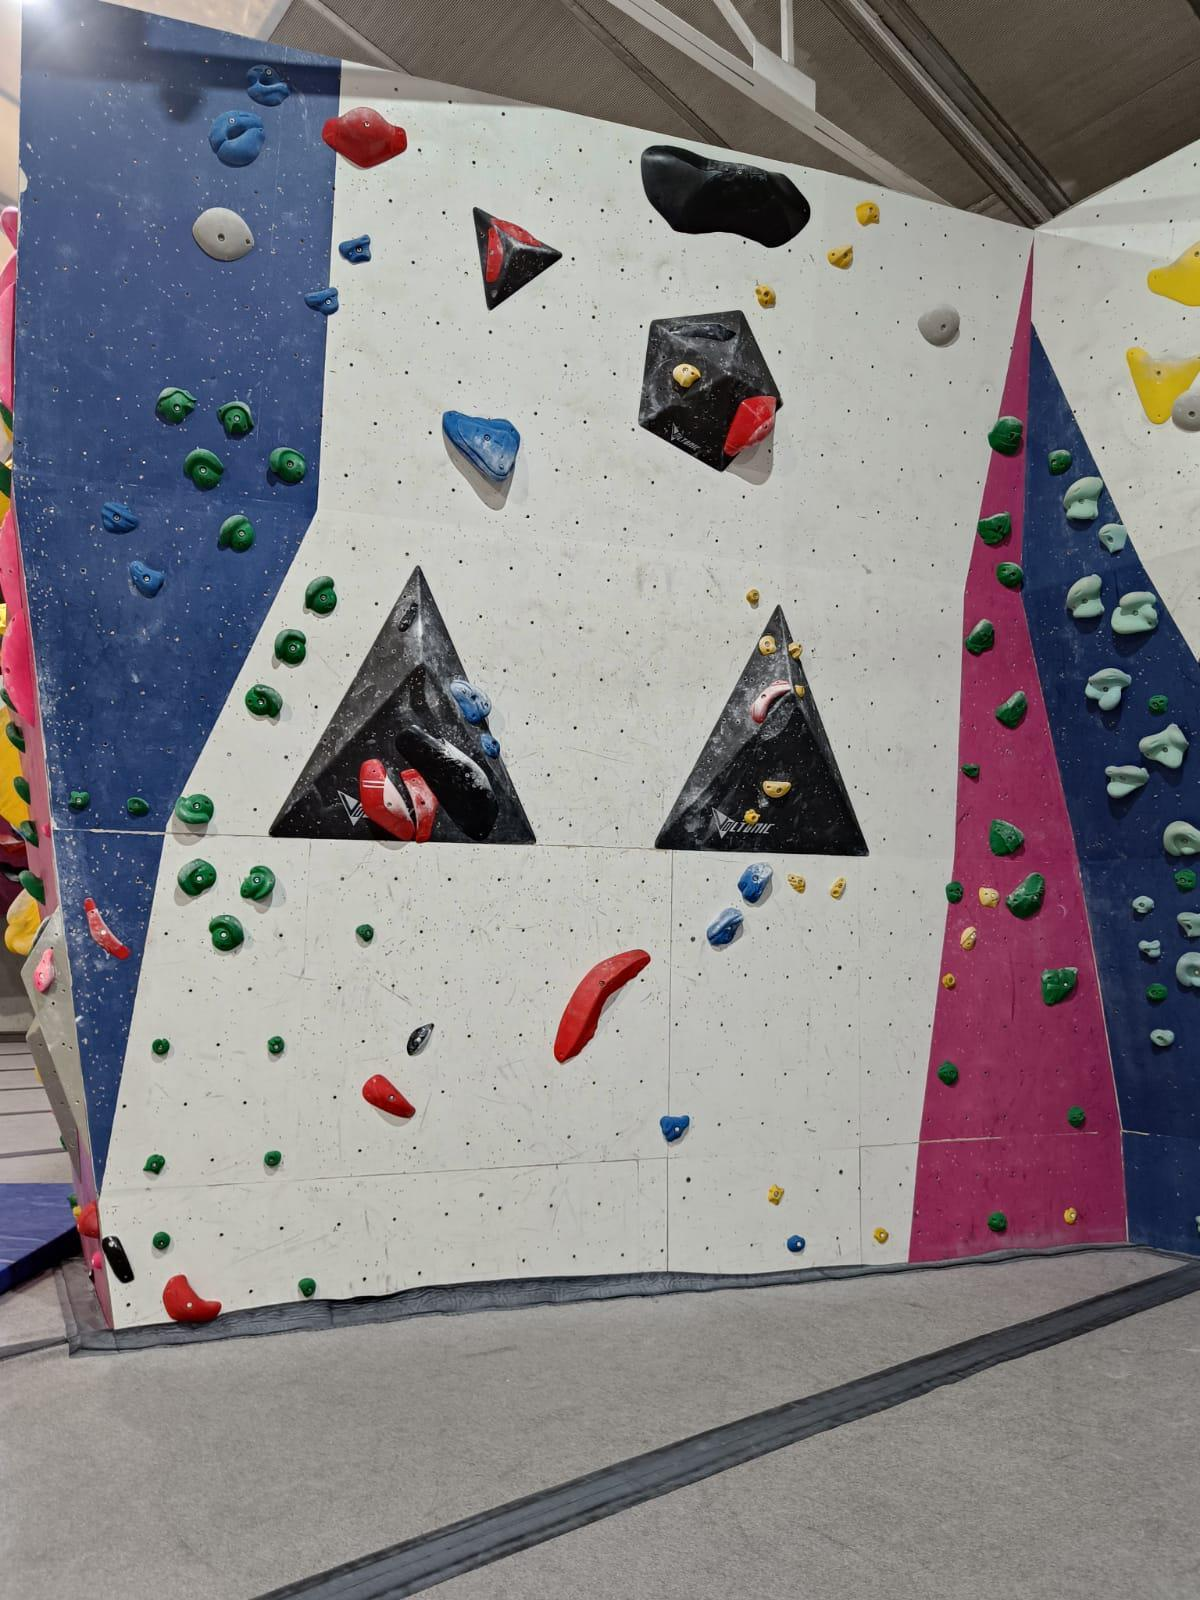hold: (640, 145, 811, 248), (396, 724, 499, 842), (553, 950, 650, 1063), (1127, 345, 1200, 425), (442, 409, 521, 483), (321, 107, 407, 168), (359, 758, 416, 840), (1, 609, 34, 728), (1147, 241, 1200, 307), (192, 207, 255, 261), (208, 110, 266, 166), (724, 394, 776, 456), (84, 896, 131, 960), (400, 769, 439, 843), (163, 1274, 222, 1322), (4, 889, 42, 956), (362, 1075, 416, 1119), (0, 508, 21, 617), (1139, 722, 1189, 769), (1111, 591, 1160, 635), (0, 282, 16, 413), (1084, 668, 1133, 711), (246, 63, 291, 107), (1005, 871, 1045, 918), (1063, 475, 1104, 520), (450, 679, 492, 723), (750, 679, 792, 723), (919, 304, 961, 346), (1065, 573, 1105, 617), (1104, 765, 1151, 799), (184, 449, 223, 489), (102, 1236, 135, 1284), (155, 387, 198, 423), (489, 218, 542, 247), (178, 858, 217, 897), (1040, 966, 1079, 1005), (737, 862, 774, 903), (129, 559, 166, 598), (988, 818, 1025, 857), (988, 416, 1024, 456), (270, 446, 308, 483), (707, 907, 744, 945), (1162, 820, 1200, 857), (239, 864, 276, 901), (219, 514, 256, 551), (209, 913, 245, 951), (217, 401, 255, 436), (101, 501, 141, 534), (245, 684, 282, 718), (305, 576, 338, 614), (1171, 391, 1200, 432), (996, 689, 1027, 727), (175, 794, 214, 824), (669, 323, 736, 340), (964, 617, 993, 656), (977, 511, 1011, 544), (275, 629, 306, 664), (485, 226, 503, 283), (76, 1201, 101, 1240), (18, 871, 45, 906), (339, 234, 372, 263), (33, 949, 54, 993), (407, 1022, 435, 1056), (304, 287, 339, 314), (1098, 523, 1127, 553), (1176, 952, 1200, 989), (659, 1115, 691, 1143), (0, 251, 18, 297), (997, 561, 1025, 588), (672, 363, 701, 388), (1, 205, 18, 249), (826, 244, 853, 270), (855, 200, 880, 227), (1047, 449, 1073, 475), (5, 721, 25, 753), (33, 915, 52, 947), (1177, 912, 1200, 937), (19, 820, 39, 848), (755, 283, 776, 309), (938, 1061, 959, 1086), (1175, 867, 1196, 892), (480, 732, 500, 758), (761, 781, 792, 799), (13, 776, 30, 805), (978, 886, 1000, 908), (1066, 1104, 1087, 1128), (1150, 1028, 1175, 1047), (987, 1211, 1008, 1232), (142, 1154, 165, 1174), (67, 790, 91, 809), (1137, 940, 1161, 959), (959, 926, 977, 951), (0, 461, 11, 499), (1145, 983, 1168, 1000), (1132, 896, 1156, 913), (787, 874, 807, 894), (1148, 694, 1168, 714), (127, 796, 149, 815), (945, 881, 963, 903), (829, 876, 846, 900), (297, 1277, 316, 1298), (768, 1183, 784, 1206), (153, 1231, 171, 1250), (759, 635, 776, 655), (151, 1038, 170, 1056), (355, 923, 374, 941), (787, 1235, 805, 1252), (267, 1036, 285, 1053), (263, 1150, 282, 1167), (744, 809, 760, 826), (788, 641, 803, 660), (872, 1227, 889, 1243), (962, 762, 979, 777), (91, 1250, 103, 1270), (1064, 1207, 1078, 1225), (745, 590, 760, 605), (942, 973, 955, 989), (39, 823, 52, 839), (67, 1192, 78, 1208), (794, 684, 805, 698), (59, 1135, 68, 1151), (72, 1204, 82, 1217), (88, 1269, 95, 1284), (1195, 1214, 1200, 1232)
volume: (268, 566, 536, 845), (655, 605, 870, 857), (638, 310, 783, 471), (20, 905, 91, 1155), (473, 207, 563, 310), (25, 1015, 81, 1184)
